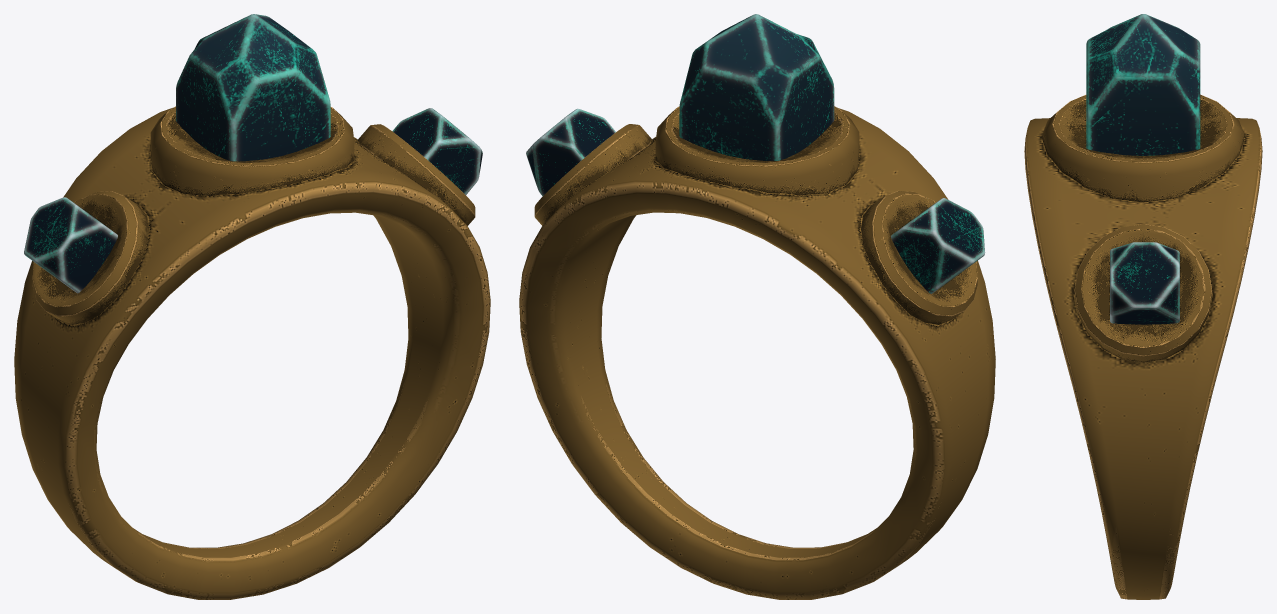
Rendered from anillo.FBX.
3 renders of one model, left to right at view 1: azimuth 30°, elevation 25°; view 2: azimuth 150°, elevation 25°; view 3: azimuth 270°, elevation 25°, orthographic.
Visible parts, largest first — view 1: polySurface11, polySurface10; view 2: polySurface11, polySurface10; view 3: polySurface11, polySurface10.
Part boxes in pixels (box(x1,y1,x2,y2)): polySurface11: box(14, 106, 490, 599); polySurface10: box(24, 14, 482, 293); polySurface11: box(519, 106, 995, 599); polySurface10: box(526, 14, 985, 293); polySurface11: box(1024, 94, 1262, 599); polySurface10: box(1086, 14, 1200, 324).
Size of the model in its own units: 2.4 by 2.94 by 1.12.
2 materials, 2 textured.
